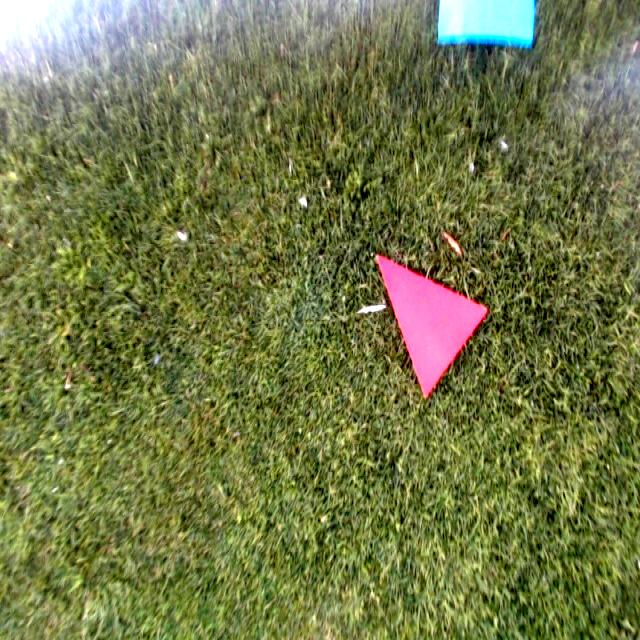red_triangle: (376, 254, 486, 396)
